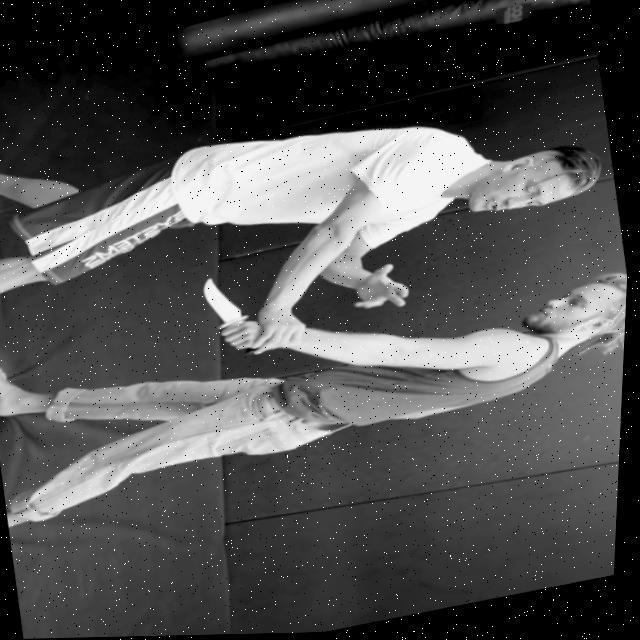knife: (189, 268, 258, 333)
